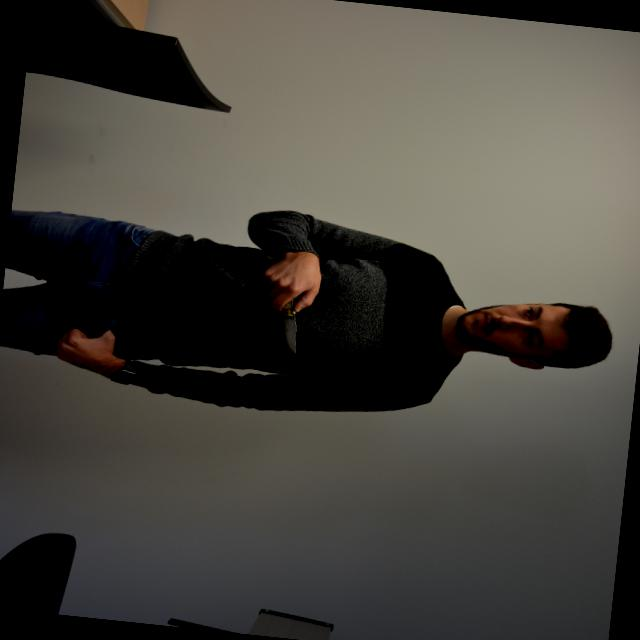knife: (257, 285, 318, 358)
